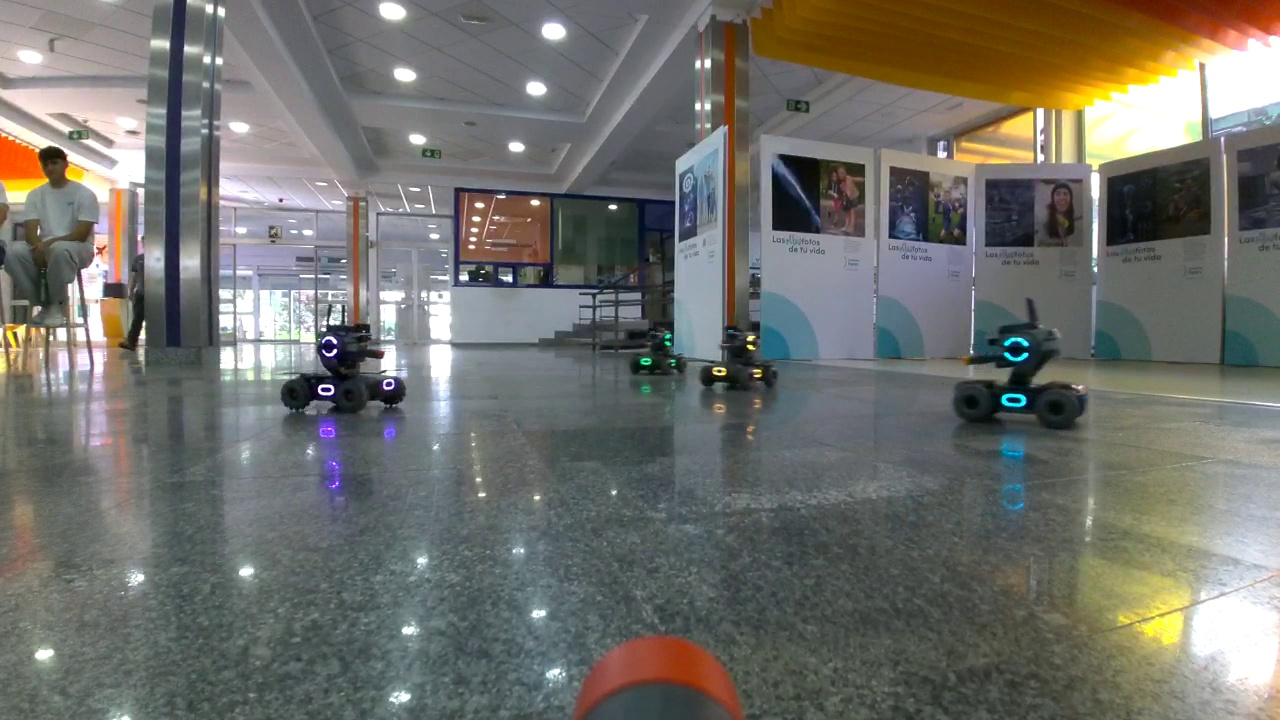robot: (956, 294, 1088, 430), (280, 298, 408, 411), (699, 323, 781, 391), (629, 317, 689, 377)
